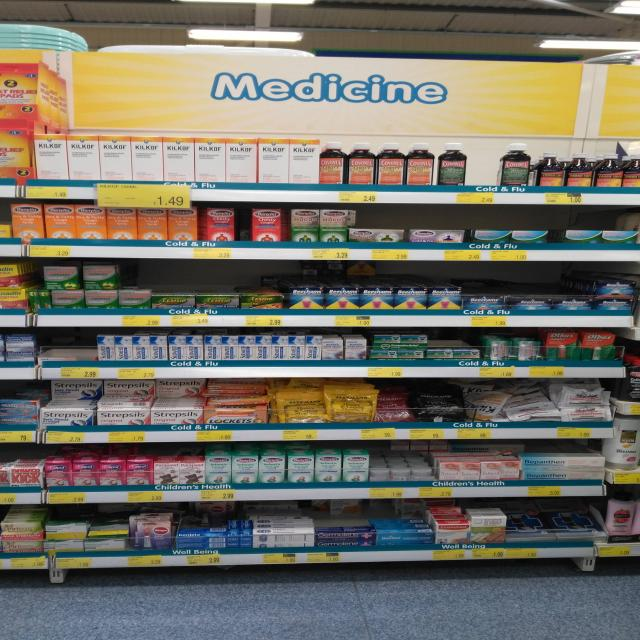unorganised: (470, 387, 510, 426), (555, 384, 614, 409), (195, 498, 229, 528), (327, 495, 365, 516)
